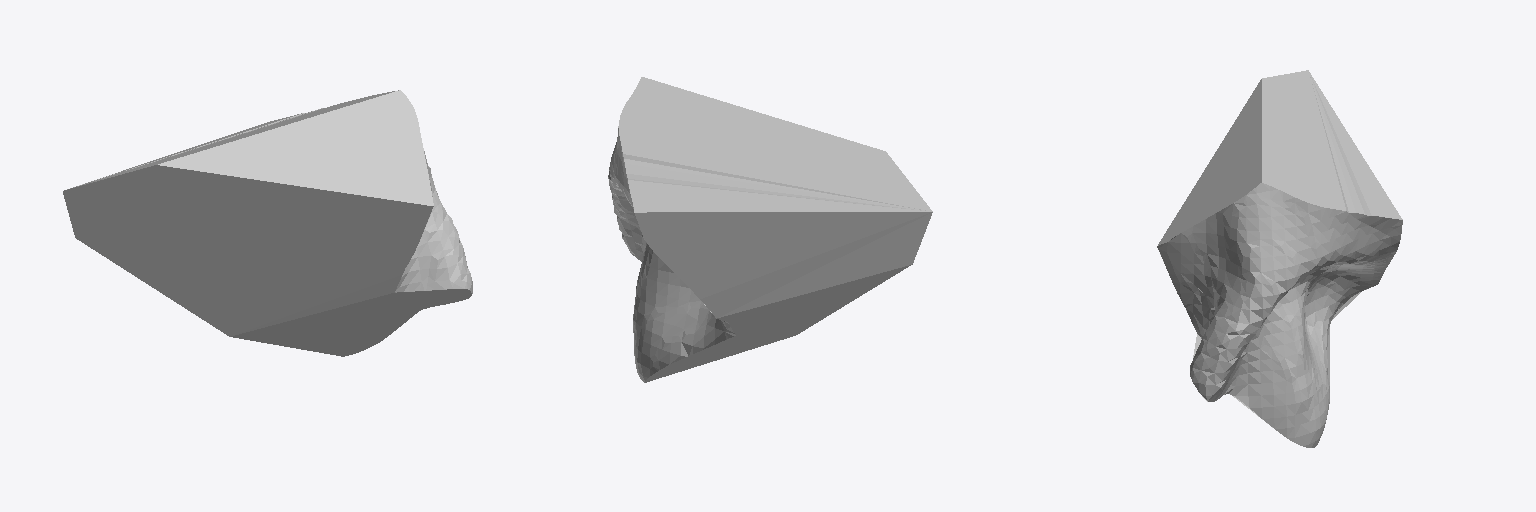
Rendered from low_cell_062.obj.
3 views of the same model, side by side, from view 1: azimuth 30°, elevation 25°; view 2: azimuth 150°, elevation 25°; view 3: azimuth 270°, elevation 25° (orthographic).
Visible parts, largest first — view 1: low_cell.062_low_cell.061; view 2: low_cell.062_low_cell.061; view 3: low_cell.062_low_cell.061.
Boxes of the visible parts, x1,y1,x2,y2 form: low_cell.062_low_cell.061: [63, 90, 472, 356]; low_cell.062_low_cell.061: [608, 77, 932, 382]; low_cell.062_low_cell.061: [1157, 70, 1402, 447].
Size of the model in its own units: 0.6553 by 0.4881 by 0.3893.